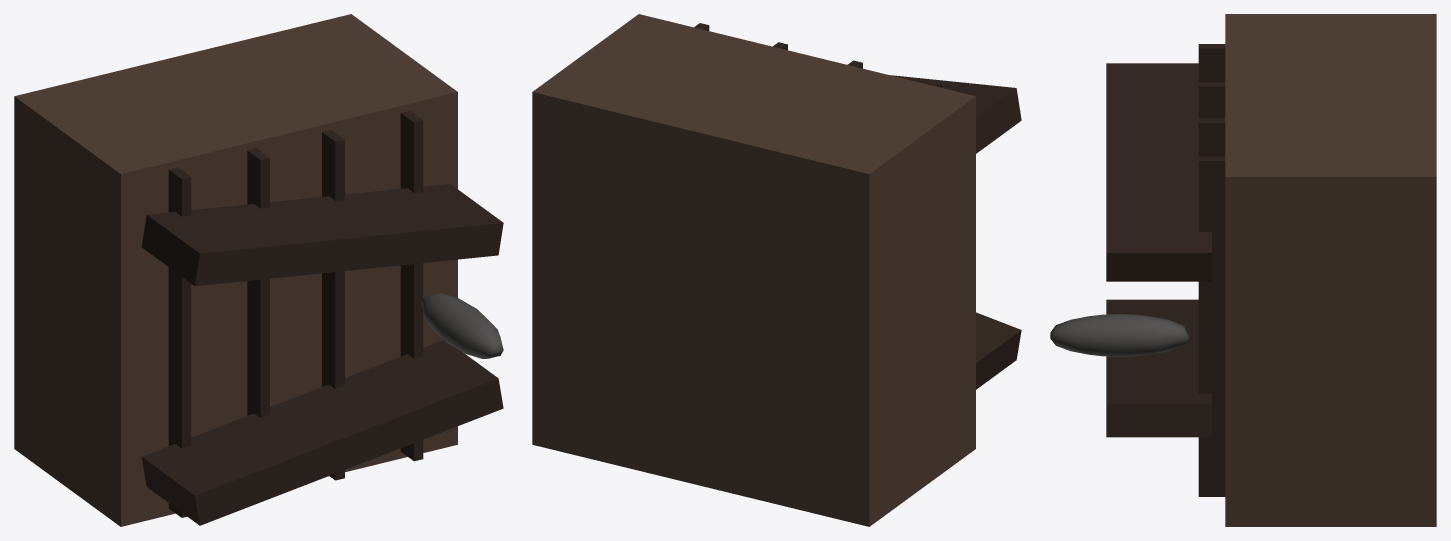
Rendered from hidden-door.glb.
3 renders of one model, left to right at view 1: azimuth 30°, elevation 25°; view 2: azimuth 150°, elevation 25°; view 3: azimuth 270°, elevation 25°, orthographic.
Parts seen in each view (by area): view 1: Door slab, Lower brace, Upper brace, Vertical board seam (×4), Iron knob; view 2: Door slab, Upper brace, Lower brace; view 3: Door slab, Upper brace, Vertical board seam (×4), Lower brace, Iron knob.
Boxes of the visible parts, x1,y1,x2,y2 form: Door slab: (14,14,457,526); Lower brace: (141,340,503,525); Upper brace: (141,184,503,286); Vertical board seam (×4): (168,111,423,517); Iron knob: (421,293,503,358); Door slab: (532,14,975,526); Upper brace: (891,75,1021,153); Lower brace: (976,312,1021,389); Door slab: (1225,14,1436,526); Upper brace: (1106,63,1211,281); Vertical board seam (×4): (1198,44,1225,496); Lower brace: (1106,299,1211,437); Iron knob: (1050,314,1188,356).
Bounding box in the file's own units: 1 × 1 × 1.
